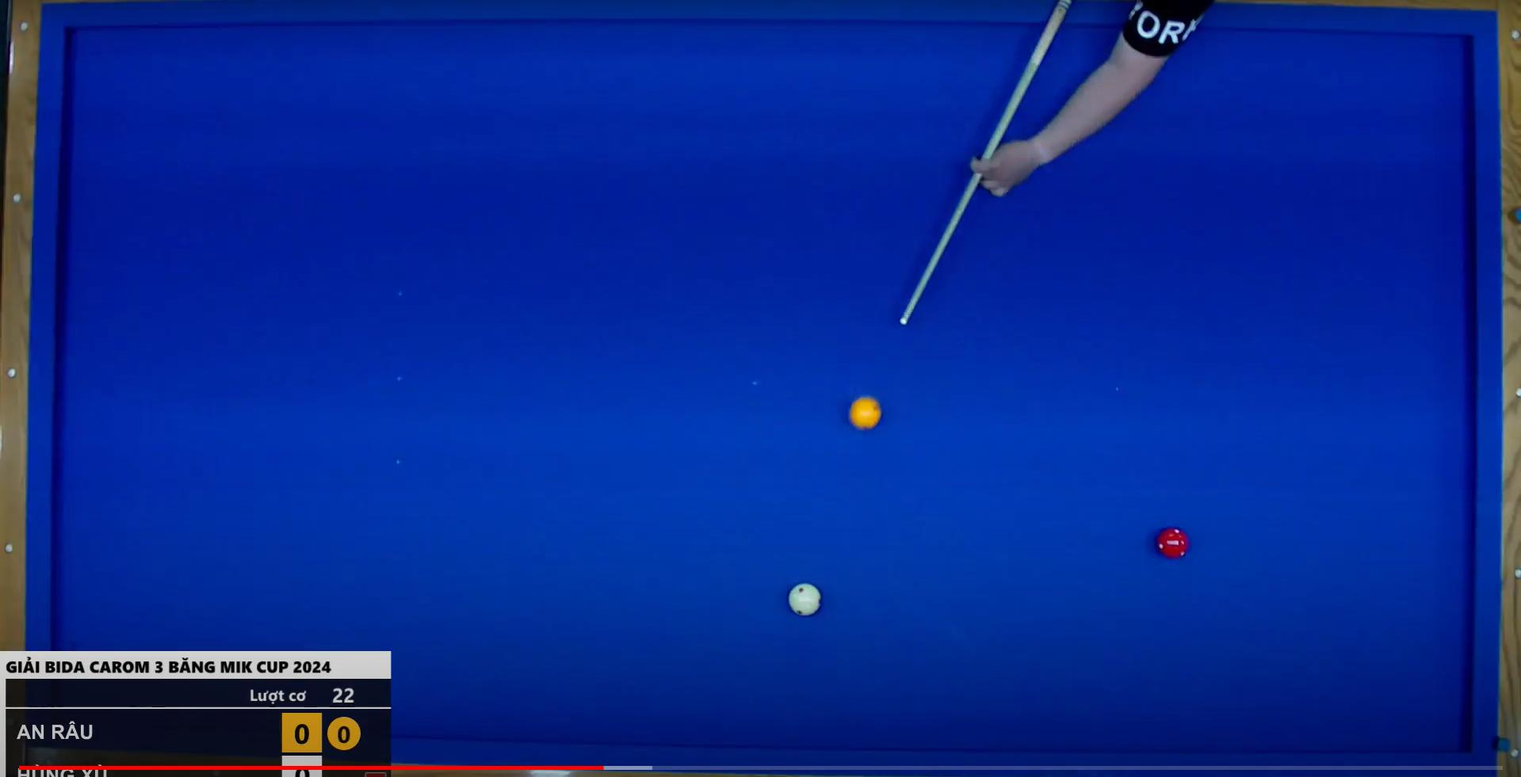red ball: (1152, 519, 1198, 570)
white ball: (784, 576, 827, 624)
yellow ball: (843, 389, 887, 440)
